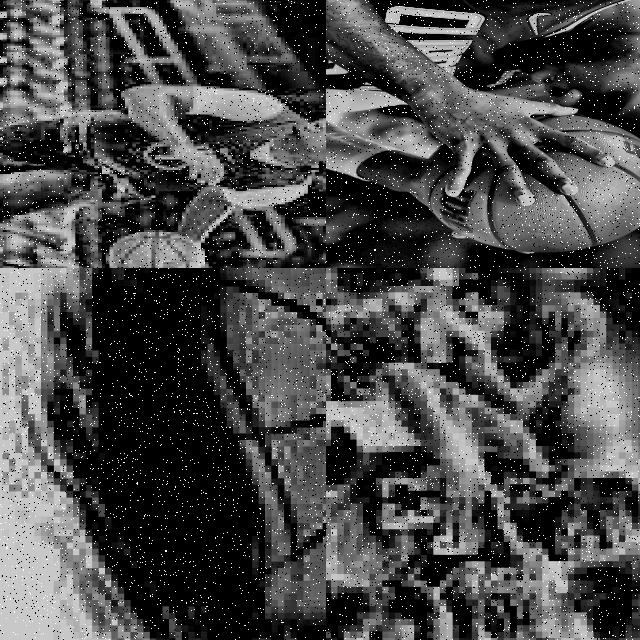Basketball: (422, 116, 640, 253), (105, 232, 204, 268)
